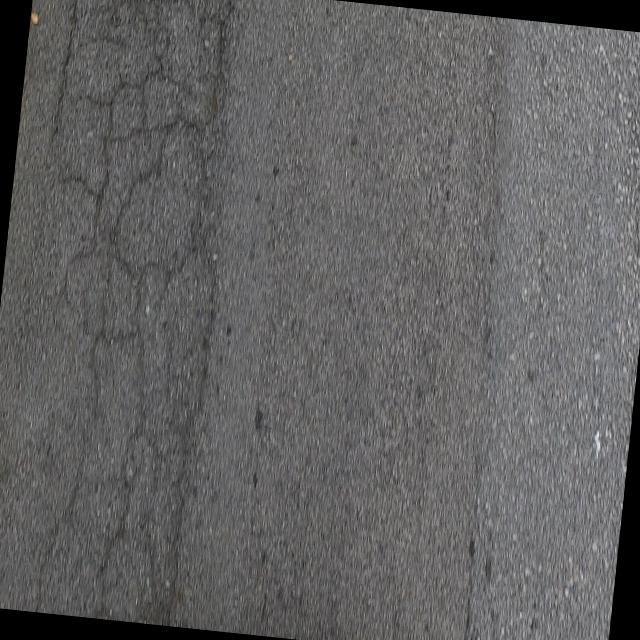Retak-Buaya: (39, 0, 233, 625)
